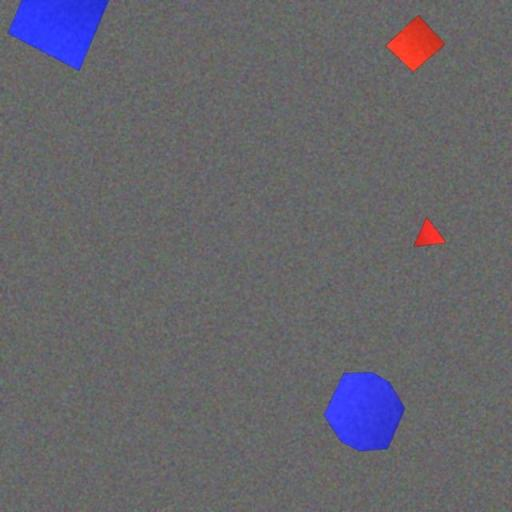BLUE_SQUARE: (7, 0, 112, 71)
RED_SQUARE: (384, 14, 446, 73)
